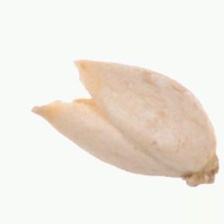L1: (30, 59, 100, 118), (179, 151, 221, 187)
L2: (31, 58, 220, 189)
